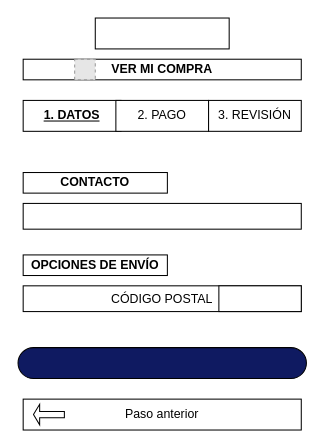
The diagram is 324 pixels wide and 448 high, and some of its shapes have lost their labels. Grey dashed boxes stand in for pictures. The shapes that lost their labels are listed below. From the top down, each one's centre as x and y in pixels, then its label:
At point 161,33: "NOMBRE DE TIENDA".
At point 161,215: "EMAIL".
At point 259,298: "BUSCAR".
At point 161,363: "Siguiente".
